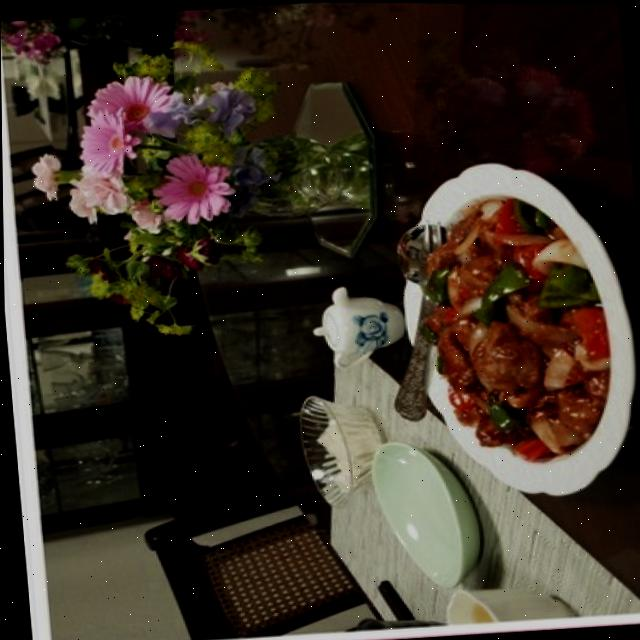猪肉菜式: (400, 188, 612, 467)
